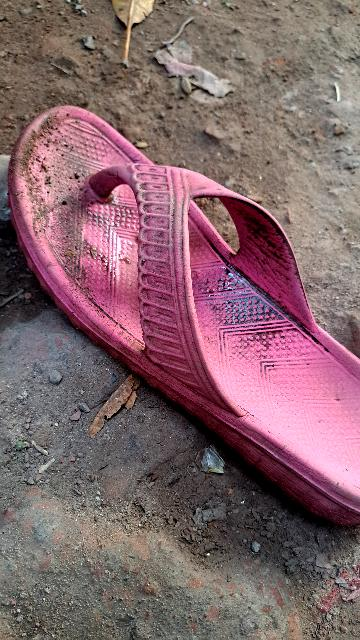sandal: (0, 79, 360, 542)
